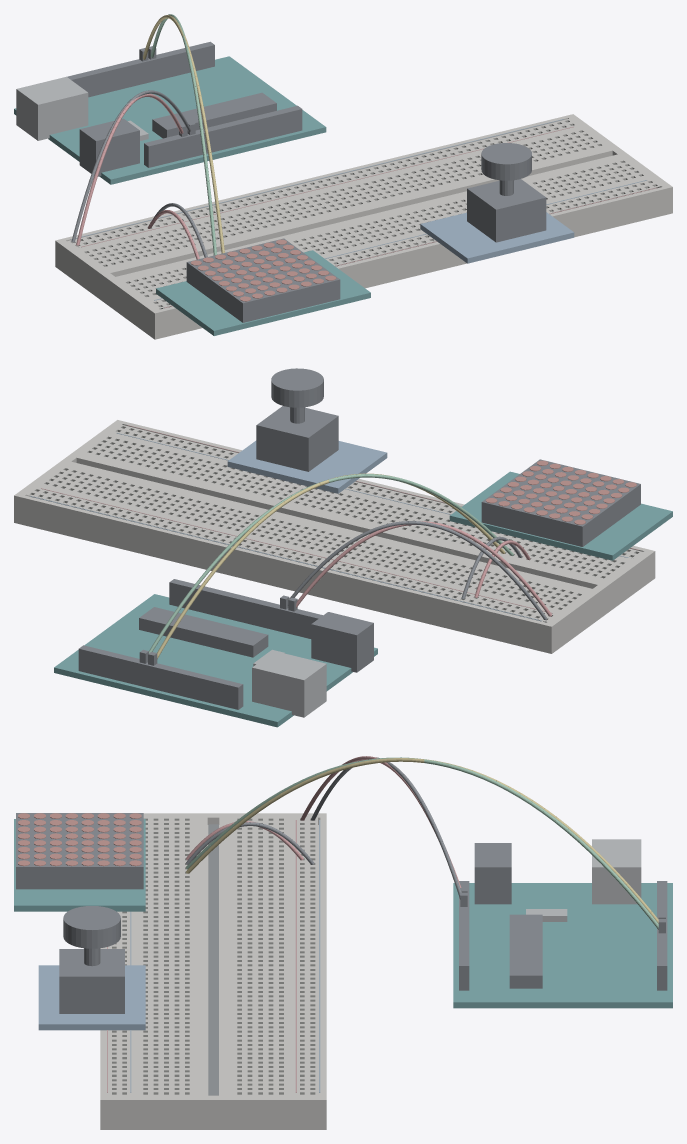
The model's file is step-9.glb.
3 views of the same model, one above another, from view 1: azimuth 30°, elevation 25°; view 2: azimuth 150°, elevation 25°; view 3: azimuth 270°, elevation 25° (orthographic). The views are drawn at different scales.
Visible parts, largest first — view 1: breadboard__mesh, uno__mesh, matrix__mesh, joystick__mesh, matrix_select__mesh, matrix_data__mesh, power_supply__mesh, ground_supply__mesh; view 2: breadboard__mesh, uno__mesh, matrix__mesh, joystick__mesh, matrix_data__mesh, matrix_select__mesh, ground_supply__mesh, power_supply__mesh; view 3: breadboard__mesh, uno__mesh, matrix__mesh, joystick__mesh, matrix_data__mesh, matrix_select__mesh, ground_supply__mesh, power_supply__mesh, matrix_ground__mesh.
Boxes of the visible parts, box(x1,y1,x2,y2) form: breadboard__mesh: box(55, 114, 672, 339); uno__mesh: box(14, 41, 326, 184); matrix__mesh: box(156, 238, 370, 335); joystick__mesh: box(420, 143, 574, 263); matrix_select__mesh: box(139, 15, 224, 253); matrix_data__mesh: box(148, 14, 217, 255); power_supply__mesh: box(76, 93, 187, 245); ground_supply__mesh: box(71, 90, 195, 242); breadboard__mesh: box(14, 420, 655, 653); uno__mesh: box(54, 579, 377, 727); matrix__mesh: box(449, 459, 672, 560); joystick__mesh: box(227, 368, 387, 493); matrix_data__mesh: box(139, 474, 513, 663); matrix_select__mesh: box(148, 473, 505, 665); ground_supply__mesh: box(280, 521, 547, 619); power_supply__mesh: box(288, 521, 551, 616); breadboard__mesh: box(100, 813, 326, 1129); uno__mesh: box(453, 839, 672, 1008); matrix__mesh: box(14, 813, 145, 911); joystick__mesh: box(38, 906, 145, 1030); matrix_data__mesh: box(186, 757, 665, 933); matrix_select__mesh: box(186, 758, 665, 923); ground_supply__mesh: box(311, 757, 467, 906); power_supply__mesh: box(300, 756, 467, 892); matrix_ground__mesh: box(186, 822, 314, 864).
Size of the model in its own units: 0.165 by 0.048 by 0.1602.
